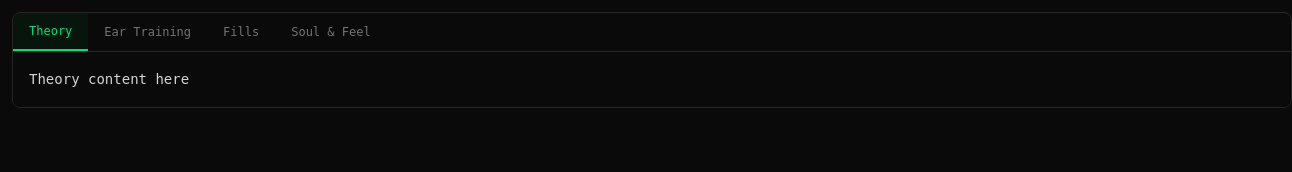
Scenario: LessonTabs › switches to Fills content on click
Click the button "Fills": (241, 32) [207,13,275,51]
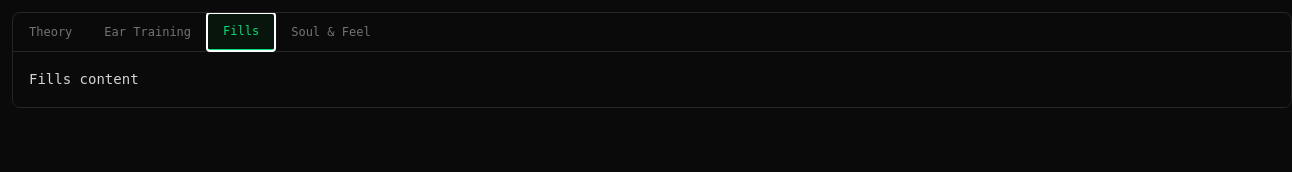
Check: the text "Fills content" is shown, box [29,71,139,87]
